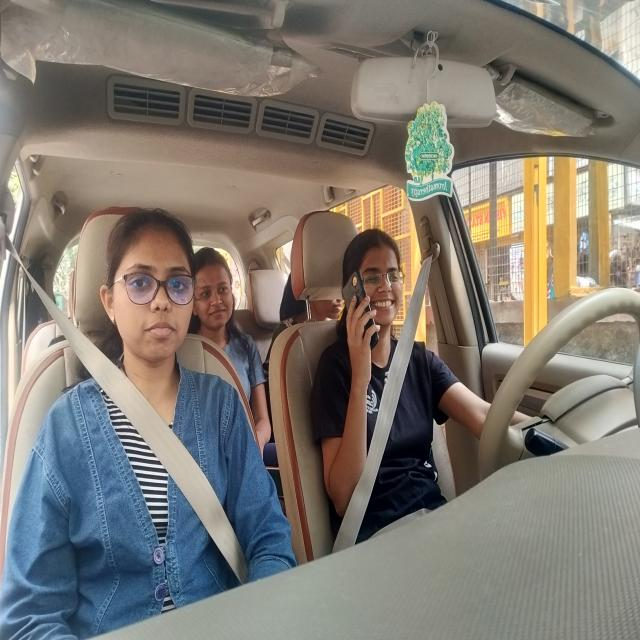mobile: (340, 272, 380, 351)
person: (108, 216, 198, 361), (346, 239, 409, 330), (198, 246, 237, 332), (291, 283, 347, 318)
